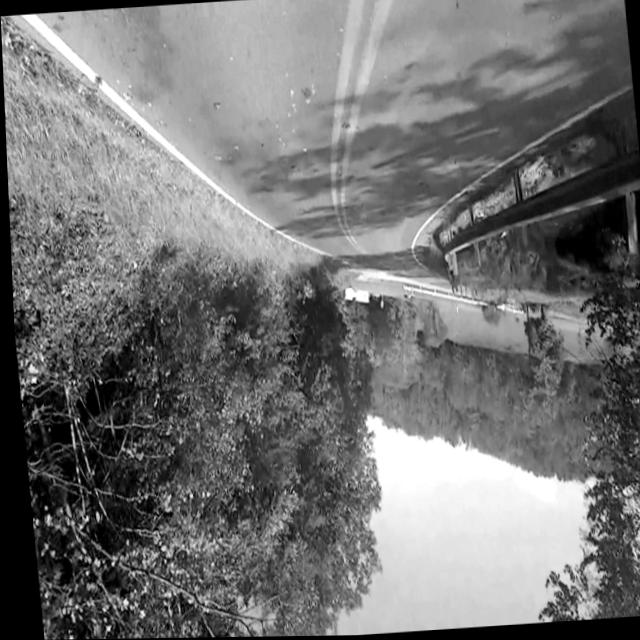cleat: (27, 0, 612, 444)
